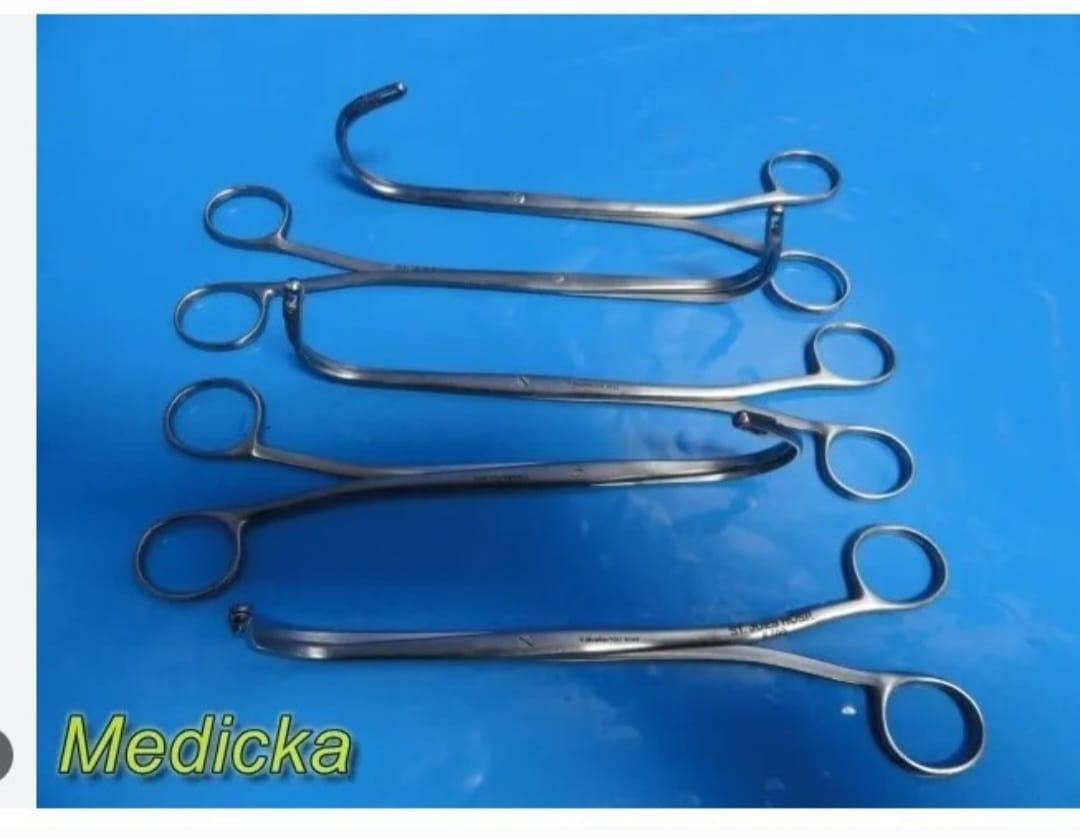Randall: (225, 515, 996, 786), (126, 356, 811, 604), (250, 264, 908, 486), (321, 75, 858, 322), (164, 169, 800, 355)
